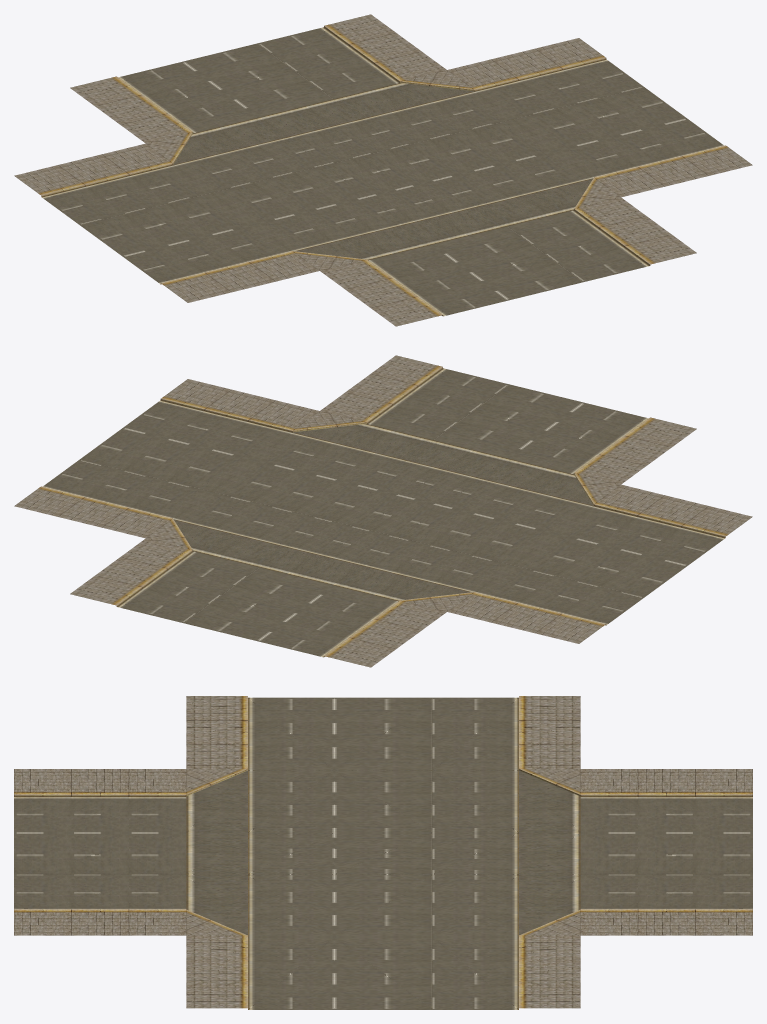
The model's file is Road2_Part_10_A.fbx.
3 renders of one model, top to bottom at view 1: azimuth 30°, elevation 25°; view 2: azimuth 150°, elevation 25°; view 3: azimuth 270°, elevation 25°, orthographic. The views are drawn at different scales.
Parts seen in each view (by area): view 1: Road_Part_15; view 2: Road_Part_15; view 3: Road_Part_15.
Part boxes in pixels (x1,y1,x2,y2): Road_Part_15: (14,14,752,326); Road_Part_15: (14,355,752,667); Road_Part_15: (14,696,752,1009).
Size of the model in its own units: 6000 by 13.63 by 6000.
